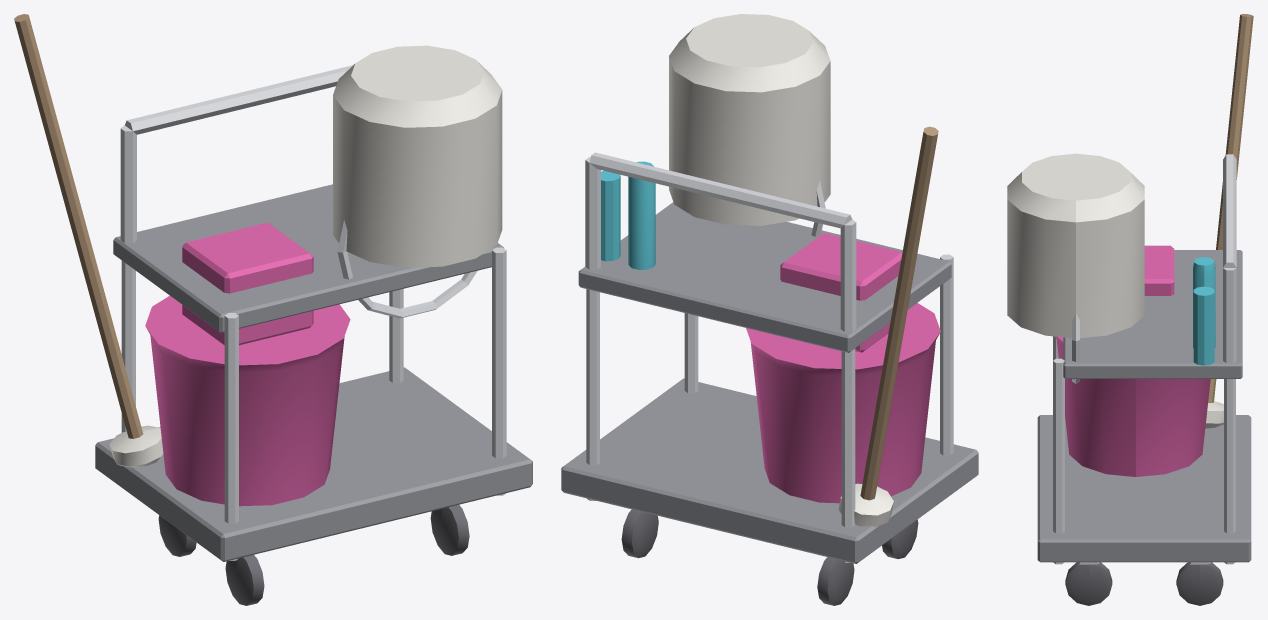
File: nightclub-and-dj-booth-cleaning-trolley-58c22c92.glb
The picture shows the model from 3 angles, left to right: view 1: azimuth 30°, elevation 25°; view 2: azimuth 150°, elevation 25°; view 3: azimuth 270°, elevation 25°; orthographic projection. The views are drawn at different scales.
Parts seen in each view (by area): view 1: cleaning-trolley, wheel; view 2: cleaning-trolley, wheel; view 3: cleaning-trolley, wheel.
Part boxes in pixels (<box>): cleaning-trolley: <box>14,14,532,561</box>; wheel: <box>158,505,469,605</box>; cleaning-trolley: <box>561,14,978,563</box>; wheel: <box>621,509,918,605</box>; cleaning-trolley: <box>1007,14,1253,564</box>; wheel: <box>1065,562,1223,605</box>.
Bounding box in the file's own units: 0.8828 × 1.17 × 0.5766.
